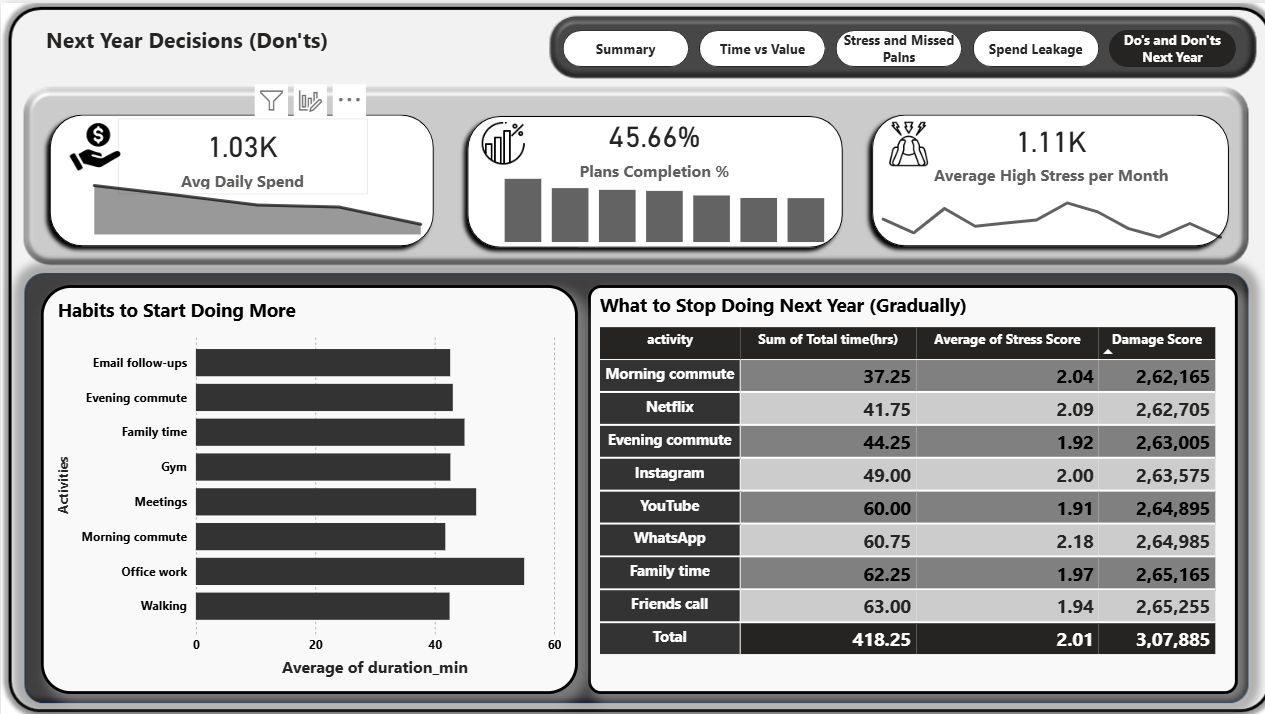

The dashboard page shown, as its layout file describes it:
{"tool":"powerbi","page":{"name":"Do's and Don'ts Next Year","canvas":[1280,720],"ordinal":4},"visuals":[{"type":"pivotTable","title":"What to Stop Doing Next Year (Gradually)","fields":{"Values":["Sum(public activity.hours)","Avg(public activity.Stress Score)","public activity.Damage Score"],"Rows":["public activity.activity"]},"box":[588.6,282.9,651.4,410],"z":0},{"type":"barChart","title":"Habits to Start Doing More","fields":{"Category":["public activity.activity"],"Y":["Avg(public activity.duration_min)"]},"box":[40,282.9,538.6,410],"z":1000},{"type":"shape","box":[864.3,102.9,375.7,150],"z":2000},{"type":"card","fields":{"Values":["public activity.Count of stress_level average per Month"]},"box":[921.4,104.3,262.9,87.1],"z":3000},{"type":"lineChart","fields":{"Y":["public activity.Damage Score"],"Category":["public activity.month name"]},"box":[867.1,177.1,372.9,72.9],"z":4000},{"type":"shape","box":[458.6,104.3,394.3,150],"z":5000},{"type":"card","fields":{"Values":["public planned_actual.Plans Completion %"]},"box":[502.9,100,304.3,87.1],"z":6000},{"type":"columnChart","fields":{"Category":["public spending_logs.linked_reason"],"Y":["Sum(public spending_logs.amount)"]},"box":[500,142.9,331.4,102.9],"z":7000},{"type":"shape","box":[40,102.9,402.9,150],"z":8000},{"type":"card","fields":{"Values":["public spending_logs.Avg Daily Spend"]},"box":[117.1,115.7,250,75.7],"z":9000},{"type":"areaChart","fields":{"Category":["public spending_logs.spend_category"],"Y":["public spending_logs.Unplanned Spend"]},"box":[55.7,167.1,402.9,70],"z":10000},{"type":"image","box":[55.7,117.1,77.1,54.3],"z":11000},{"type":"image","box":[460,114.3,87.1,52.9],"z":12000},{"type":"image","box":[870,115.7,80,51.4],"z":13000},{"type":"pageNavigator","box":[563.4,26.6,677,37.8],"z":14000},{"type":"textbox","box":[40,17.1,375.7,47.1],"z":15000}]}

Visuals, with their boxes in screenshot pixels (x1, y1, x2, y2), scaled from the page's 1280x720 canvas onto the 1265x714 screenshot:
"What to Stop Doing Next Year (Gradually)" pivotTable: [582,281,1225,687]
"Habits to Start Doing More" barChart: [40,281,572,687]
shape: [854,102,1225,251]
card - public activity.Count of stress_level average per Month: [911,103,1170,190]
lineChart - public activity.Damage Score x public activity.month name: [857,176,1225,248]
shape: [453,103,843,252]
card - public planned_actual.Plans Completion %: [497,99,798,186]
columnChart - public spending_logs.linked_reason x Sum(public spending_logs.amount): [494,142,822,244]
shape: [40,102,438,251]
card - public spending_logs.Avg Daily Spend: [116,115,363,190]
areaChart - public spending_logs.spend_category x public spending_logs.Unplanned Spend: [55,166,453,235]
image: [55,116,131,170]
image: [455,113,541,166]
image: [860,115,939,166]
pageNavigator: [557,26,1226,64]
textbox: [40,17,411,64]
